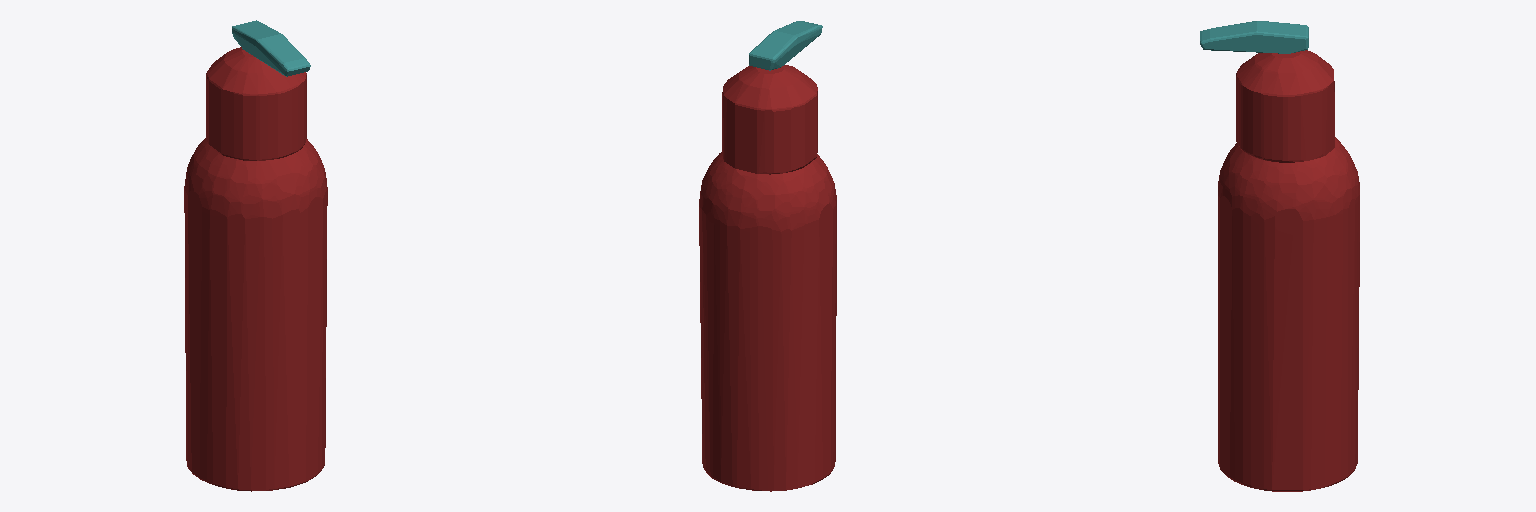
URDF robot description (root):
<robot name="root">
  <link name="bottle_body">
    <inertial>
      <origin xyz="0 0 0" rpy="0 0 0"/>
    </inertial>
    <mass value="1.00E-02"/>
    <visual>
      <origin xyz="0 0 0" rpy="0 0 0"/>
      <geometry>
        <mesh filename="core-bottle-e23f62bb4794ee6a7fdd0518ed16e820-coacd_convex_piece_2.obj" scale="1.0000E-01 1.0000E-01 1.0000E-01"/>
      </geometry>
      <material name="">
        <color rgba="6.00E-01 2.00E-01 2.00E-01 1"/>
      </material>
    </visual>
    <collision>
      <origin xyz="0 0 0" rpy="0 0 0"/>
      <geometry>
        <mesh filename="core-bottle-e23f62bb4794ee6a7fdd0518ed16e820-coacd_convex_piece_2.obj" scale="1.0000E-01 1.0000E-01 1.0000E-01"/>
      </geometry>
    </collision>
    <visual>
      <origin xyz="0 0 0" rpy="0 0 0"/>
      <geometry>
        <mesh filename="core-bottle-e23f62bb4794ee6a7fdd0518ed16e820-coacd_convex_piece_0.obj" scale="1.0000E-01 1.0000E-01 1.0000E-01"/>
      </geometry>
      <material name="">
        <color rgba="6.00E-01 2.00E-01 2.00E-01 1"/>
      </material>
    </visual>
    <collision>
      <origin xyz="0 0 0" rpy="0 0 0"/>
      <geometry>
        <mesh filename="core-bottle-e23f62bb4794ee6a7fdd0518ed16e820-coacd_convex_piece_0.obj" scale="1.0000E-01 1.0000E-01 1.0000E-01"/>
      </geometry>
    </collision>
  </link>
  <link name="bottle_cap">
    <origin xyz="0 0 0.002" rpy="0 0 0"/>
    <mass value="1.00E-02"/>
    <visual>
      <origin xyz="0 0 0.002" rpy="0 0 0"/>
      <geometry>
        <mesh filename="core-bottle-e23f62bb4794ee6a7fdd0518ed16e820-coacd_convex_piece_1.obj" scale="1.0000E-01 1.0000E-01 1.0000E-01"/>
      </geometry>
      <material name="">
        <color rgba="3.00E-01 6.00E-01 6.00E-01 1"/>
      </material>
    </visual>
    <collision>
      <origin xyz="0 0 0.002" rpy="0 0 0"/>
      <geometry>
        <mesh filename="core-bottle-e23f62bb4794ee6a7fdd0518ed16e820-coacd_convex_piece_1.obj" scale="1.0000E-01 1.0000E-01 1.0000E-01"/>
      </geometry>
    </collision>
  </link>
  <joint name="bottle_cap_joint" type="revolute">
    <origin xyz="0 0 0" rpy="0 0 0"/>
    <parent link="bottle_body"/>
    <child link="bottle_cap"/>
    <axis xyz="0 0 1"/>
    <limit lower="0.00" upper="6.28"/>
    <dynamics damping="0.05"/>
  </joint>
</robot>

--- What the picture shows (computed from the rendered views, not written in the file) ---
3 views of the same robot in one strip: view 1: azimuth 30°, elevation 25°; view 2: azimuth 150°, elevation 25°; view 3: azimuth 270°, elevation 25° (orthographic).
Robot: root — 2 links, 1 joints (1 revolute); root link bottle_body; default pose: every joint at zero.
Links seen in each view (by area): view 1: bottle_body, bottle_cap; view 2: bottle_body, bottle_cap; view 3: bottle_body, bottle_cap.
Link boxes in pixels (x1=…): bottle_body: x1=184, y1=47, x2=327, y2=491; bottle_cap: x1=232, y1=20, x2=310, y2=76; bottle_body: x1=699, y1=65, x2=836, y2=491; bottle_cap: x1=749, y1=21, x2=822, y2=70; bottle_body: x1=1218, y1=50, x2=1359, y2=491; bottle_cap: x1=1200, y1=21, x2=1308, y2=53.
Size in the robot's own frame: 0.0548 by 0.0629 by 0.1888 metres.
Meshes: 3 distinct files referenced, 3 mesh visuals loaded (3 OBJ).